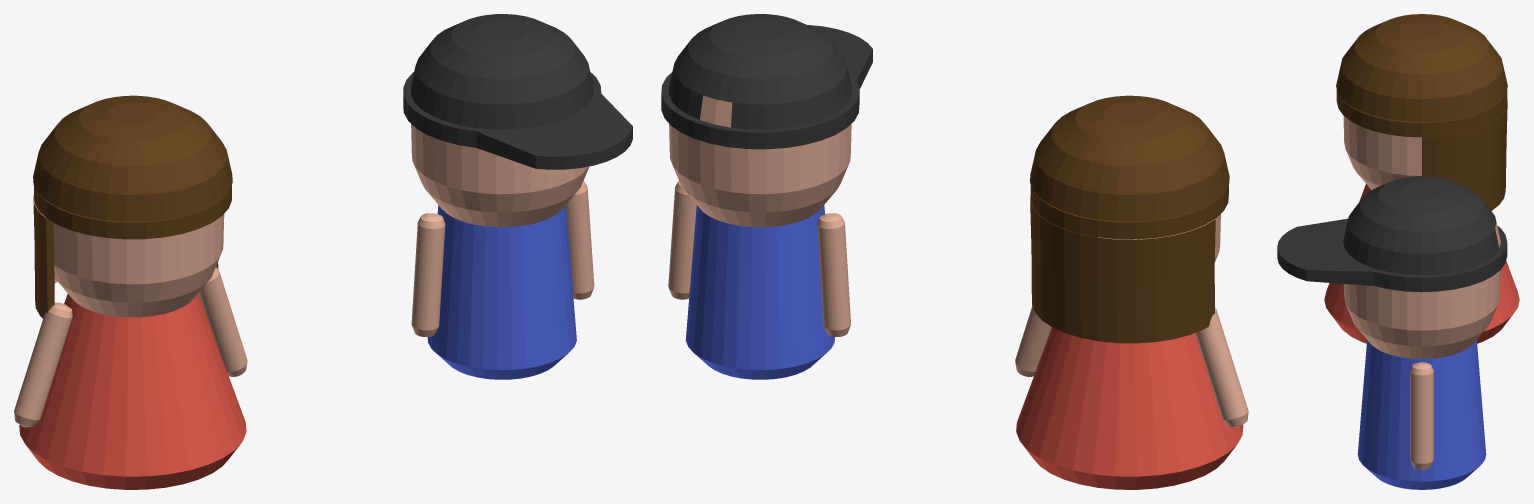
Rendered from Players.fbx.
3 views of the same model, side by side, from view 1: azimuth 30°, elevation 25°; view 2: azimuth 150°, elevation 25°; view 3: azimuth 270°, elevation 25° (orthographic). The views are drawn at different scales.
Visible parts, largest first — view 1: Ona, On; view 2: Ona, On; view 3: On, Ona.
Boxes of the visible parts, x1,y1,x2,y2 form: Ona: (14, 95, 247, 489); On: (403, 14, 632, 379); Ona: (1015, 95, 1248, 489); On: (661, 14, 872, 379); On: (1277, 176, 1507, 489); Ona: (1324, 14, 1519, 343).
Bounding box in the file's own units: 303 × 168 × 128.
